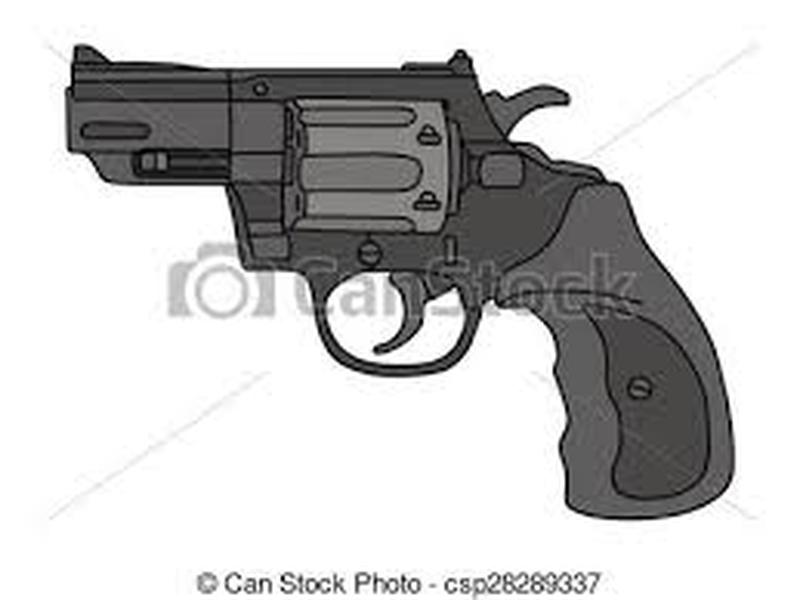gun: (62, 37, 750, 521)
